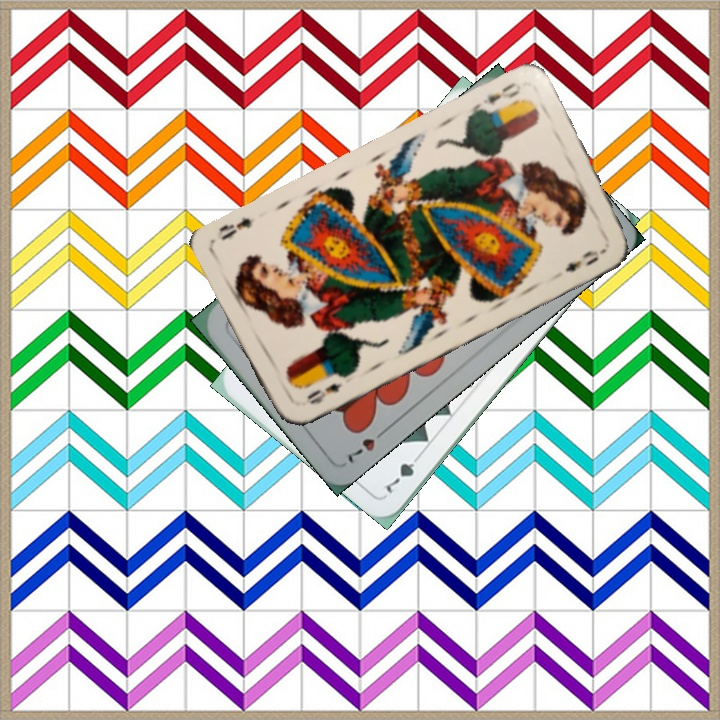EO: (470, 78, 524, 117), (303, 378, 346, 407)
G7: (382, 448, 425, 496)
H7: (343, 423, 391, 466)
